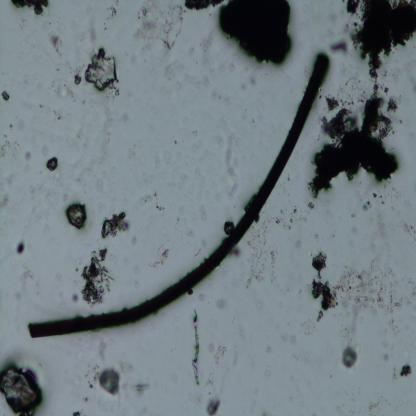Background material: (309, 88, 408, 218), (330, 261, 416, 343), (339, 0, 416, 88), (217, 0, 298, 75), (0, 355, 45, 415), (308, 249, 338, 336), (248, 219, 282, 288), (84, 47, 118, 99), (84, 243, 111, 306), (132, 0, 168, 43), (83, 364, 125, 398), (58, 198, 90, 232), (190, 306, 202, 391), (369, 206, 392, 247), (99, 212, 127, 244), (10, 0, 52, 18), (83, 12, 103, 48), (182, 0, 225, 16), (16, 270, 36, 298), (51, 76, 74, 100), (147, 247, 170, 270), (225, 145, 241, 178), (339, 343, 359, 369), (46, 33, 66, 57), (286, 204, 304, 230), (0, 179, 13, 210), (210, 338, 225, 364), (328, 40, 349, 58), (367, 393, 385, 412), (130, 384, 151, 400), (203, 399, 222, 416), (10, 238, 28, 254), (105, 0, 118, 21), (0, 142, 19, 156), (402, 222, 416, 241), (222, 217, 236, 236), (98, 337, 108, 362), (137, 191, 154, 205), (213, 296, 228, 311), (49, 108, 65, 122), (398, 363, 412, 378), (45, 157, 60, 171), (281, 330, 297, 343), (360, 198, 374, 212), (67, 290, 80, 303), (72, 73, 83, 85), (17, 18, 29, 29), (2, 89, 12, 101), (306, 202, 315, 212), (23, 152, 33, 160), (266, 342, 272, 354), (71, 408, 80, 416), (294, 239, 302, 248), (384, 350, 390, 361), (157, 204, 164, 212), (133, 237, 138, 245), (10, 124, 13, 129)
Microfibre: (30, 49, 334, 344)
